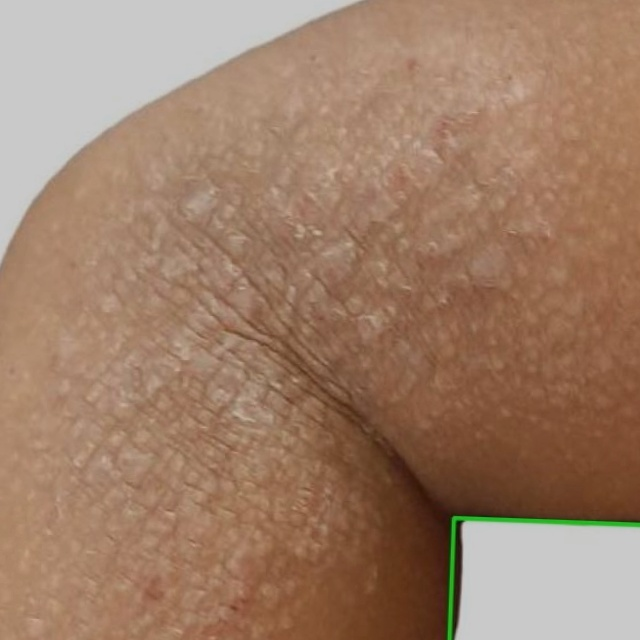Eczema: (449, 517, 639, 639)
